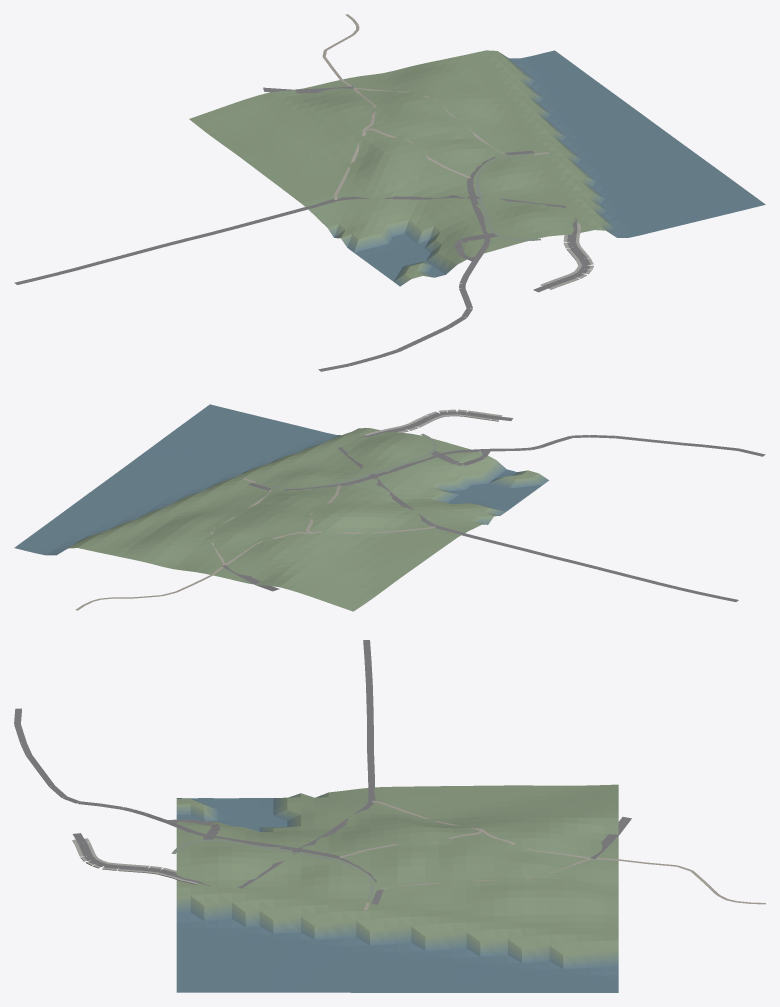
Rendered from tile_6_-3.glb.
3 renders of one model, top to bottom at view 1: azimuth 30°, elevation 25°; view 2: azimuth 150°, elevation 25°; view 3: azimuth 270°, elevation 25°, orthographic. The views are drawn at different scales.
Parts seen in each view (by area): view 1: terrain, roads, paths, sidewalks; view 2: terrain, roads, paths, sidewalks; view 3: terrain, roads, paths, sidewalks.
Part boxes in pixels (x1,y1,x2,y2): terrain: (189, 50, 765, 286); roads: (14, 86, 590, 371); paths: (322, 14, 549, 241); sidewalks: (540, 223, 593, 289); terrain: (14, 404, 549, 611); roads: (222, 411, 765, 601); paths: (75, 433, 436, 610); sidewalks: (365, 409, 502, 435); terrain: (176, 784, 618, 992); roads: (14, 640, 631, 904); paths: (171, 800, 765, 910); sidewalks: (72, 838, 197, 884).
Size of the model in its own units: 462 by 20.86 by 436.
